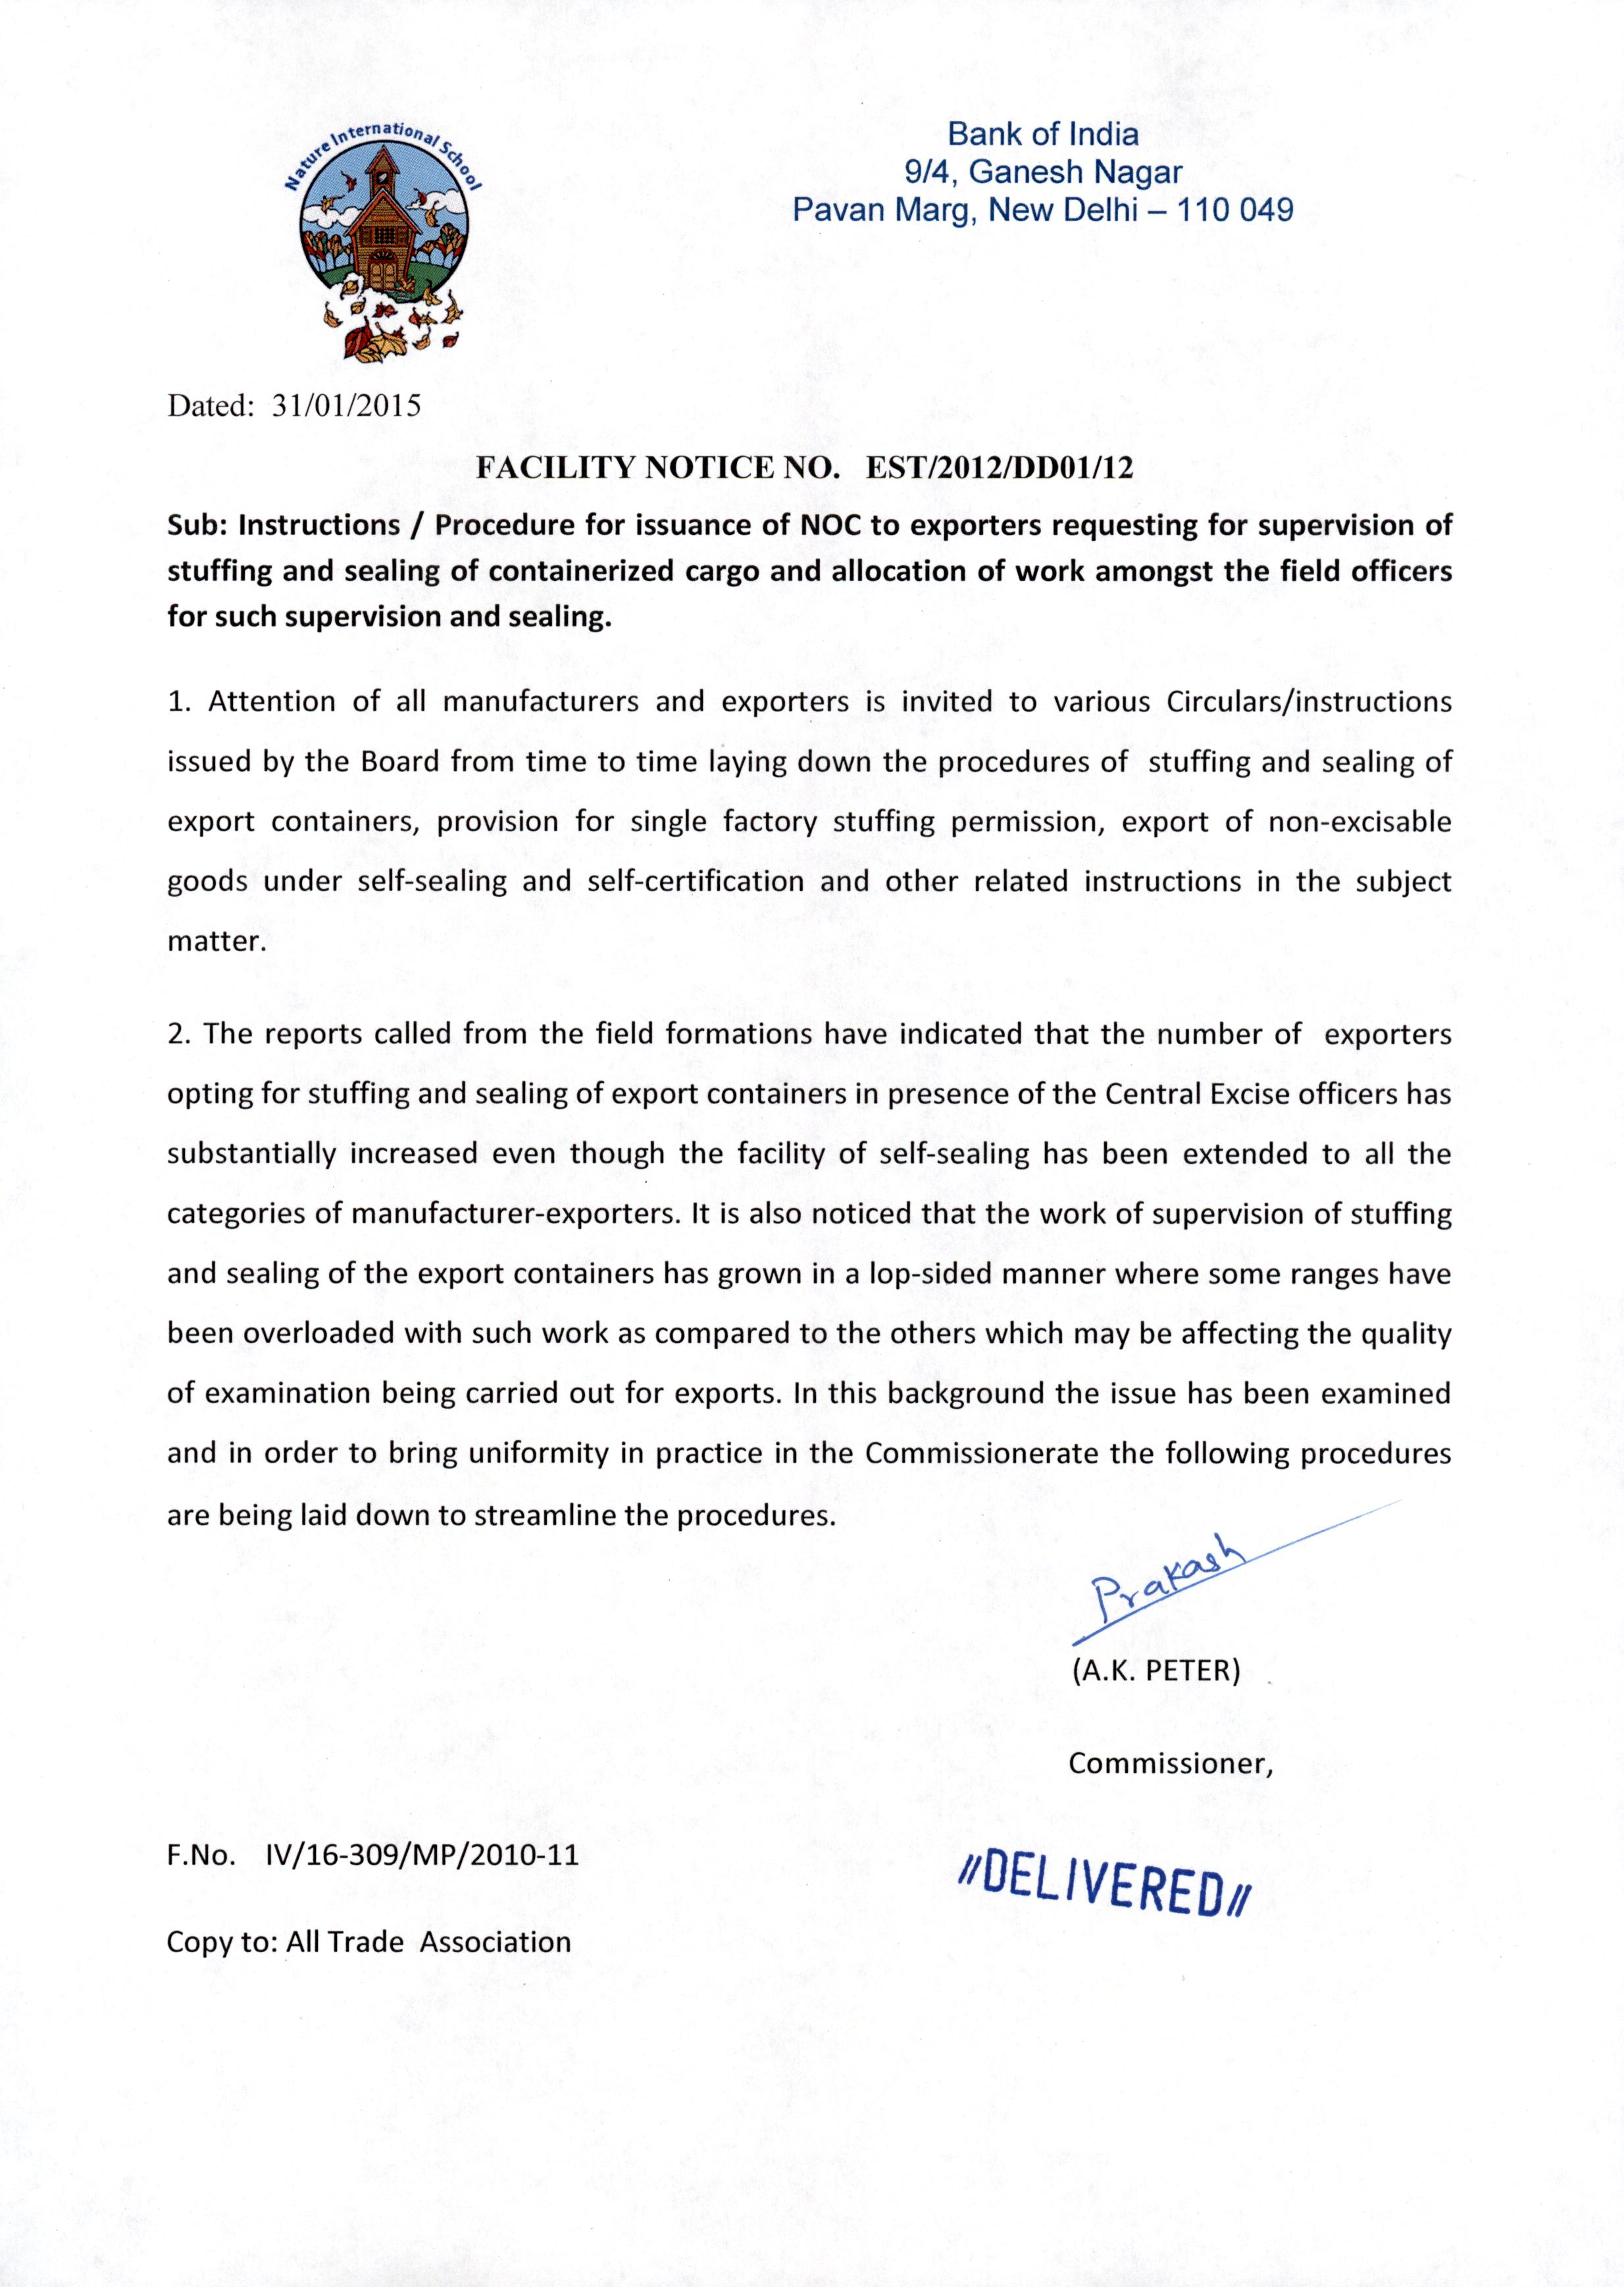Signature: (1063, 1525, 1265, 1649)
